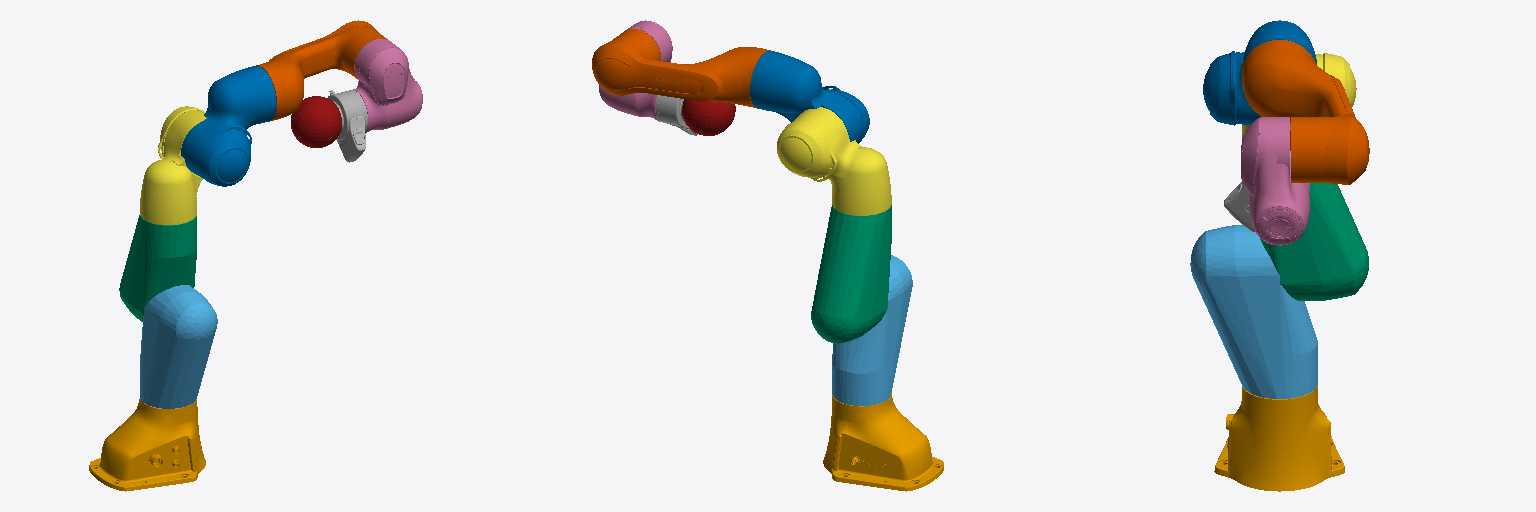
The robot description file, URDF, robot "panda":
<?xml version='1.0' encoding='utf-8'?>
<robot name="panda">

	<link name="link0">
		<inertial>
			<origin xyz="0 0 0.05" rpy="0 0 0" />
			<mass value="4" />
			<inertia ixx="0.4" iyy="0.4" izz="0.4" ixy="0" ixz="0" iyz="0" />
		</inertial>
		<visual>
			<geometry>
				<mesh filename="meshes/visual/link0.stl"/>
			</geometry>
		</visual>
		<!-- <collision>
			<geometry>
				<mesh filename="meshes/collision/link0.stl"/>
			</geometry>
		</collision> -->
	</link>
	<link name="link1">
		<inertial>
			<origin xyz="0 0 -0.07" rpy="0 -0 0" />
			<mass value="3" />
			<inertia ixx="0.3" iyy="0.3" izz="0.3" ixy="0" ixz="0" iyz="0" />
		</inertial>
		<visual>
			<geometry>
				<mesh filename="meshes/visual/link1.stl"/>
			</geometry>
		</visual>
		<!-- <collision>
			<geometry>
				<mesh filename="meshes/collision/link1.stl"/>
			</geometry>
		</collision> -->
	</link>
	<link name="link2">
		<inertial>
			<origin xyz="0 -0.1 0" rpy="0 -0 0" />
			<mass value="3" />
			<inertia ixx="0.3" iyy="0.3" izz="0.3" ixy="0" ixz="0" iyz="0" />
		</inertial>
		<visual>
			<geometry>
				<mesh filename="meshes/visual/link2.stl"/>
			</geometry>
		</visual>
		<!-- <collision>
			<geometry>
				<mesh filename="meshes/collision/link2.stl"/>
			</geometry>
		</collision> -->
	</link>
	<link name="link3">
		<inertial>
			<origin xyz="0.04 0 -0.05" rpy="0 -0 0" />
			<mass value="2" />
			<inertia ixx="0.2" iyy="0.2" izz="0.2" ixy="0" ixz="0" iyz="0" />
		</inertial>
		<visual>
			<geometry>
				<mesh filename="meshes/visual/link3.stl"/>
			</geometry>
		</visual>
		<!-- <collision>
			<geometry>
				<mesh filename="meshes/collision/link3.stl"/>
			</geometry>
		</collision> -->
	</link>
	<link name="link4">
		<inertial>
			<origin xyz="-0.04 0.05 0" rpy="0 -0 0" />
			<mass value="2" />
			<inertia ixx="0.2" iyy="0.2" izz="0.2" ixy="0" ixz="0" iyz="0" />
		</inertial>
		<visual>
			<geometry>
				<mesh filename="meshes/visual/link4.stl"/>
			</geometry>
		</visual>
		<!-- <collision>
			<geometry>
				<mesh filename="meshes/collision/link4.stl"/>
			</geometry>
		</collision> -->
	</link>
	<link name="link5">
		<inertial>
			<origin xyz="0 0 -0.15" rpy="0 -0 0" />
			<mass value="2" />
			<inertia ixx="0.2" iyy="0.2" izz="0.2" ixy="0" ixz="0" iyz="0" />
		</inertial>
		<visual>
			<geometry>
				<mesh filename="meshes/visual/link5.stl"/>
			</geometry>
		</visual>
		<!-- <collision>
			<geometry>
				<mesh filename="meshes/collision/link5.stl"/>
			</geometry>
		</collision> -->
	</link>
	<link name="link6">
		<inertial>
			<origin xyz="0.06 0 0" rpy="0 -0 0" />
			<mass value="1.5" />
			<inertia ixx="0.1" iyy="0.1" izz="0.1" ixy="0" ixz="0" iyz="0" />
		</inertial>
		<visual>
			<geometry>
				<mesh filename="meshes/visual/link6.stl"/>
			</geometry>
		</visual>
		<!-- <collision>
			<geometry>
				<mesh filename="meshes/collision/link6.stl"/>
			</geometry>
		</collision> -->
	</link>
	<link name="link7">
		<inertial>
			<origin xyz="0 0 0.17" rpy="0 -0 0" />
			<mass value="1.8" />
			<inertia ixx="0.09" iyy="0.05" izz="0.07" ixy="0" ixz="0" iyz="0" />
		</inertial>
		<visual>
			<geometry>
				<mesh filename="meshes/visual/link7.stl"/>
			</geometry>
		</visual>
		<!-- <collision>
			<geometry>
				<mesh filename="meshes/collision/link7.stl"/>
			</geometry>
		</collision> -->
	</link>
	<link name="end-effector">
		<inertial>
			<origin xyz="0 0 0" rpy="0 -0 0" />
			<mass value="0.2" />
			<inertia ixx="0.01" iyy="0.01" izz="0.01" ixy="0" ixz="0" iyz="0" />
		</inertial>
		<visual>
			<geometry>
				<sphere radius="0.05"/>
			</geometry>
			<material name="material_red">
				<color rgba="0.6 0.1 0.1 1.0" />
			</material>
		</visual>
		<collision>
			<geometry>
				<sphere radius="0.05"/>
			</geometry>
		</collision>
	</link>

	<joint name="joint1" type="revolute">
		<safety_controller k_position="100.0" k_velocity="40.0" soft_lower_limit="-2.8973" soft_upper_limit="2.8973"/>
		<origin rpy="0 0 0" xyz="0 0 0.333"/>
		<parent link="link0"/>
		<child link="link1"/>
		<axis xyz="0 0 1"/>
		<calibration falling="0.0" />
		<limit effort="87" lower="-2.8973" upper="2.8973" velocity="2.1750"/>
	</joint>
	<joint name="joint2" type="revolute">
		<safety_controller k_position="100.0" k_velocity="40.0" soft_lower_limit="-1.7628" soft_upper_limit="1.7628"/>
		<origin rpy="-1.57079632679 0 0" xyz="0 0 0"/>
		<parent link="link1"/>
		<child link="link2"/>
		<axis xyz="0 0 1"/>
		<calibration falling="-25.0" />
		<limit effort="87" lower="-1.7628" upper="1.7628" velocity="2.1750"/>
	</joint>
	<joint name="joint3" type="revolute">
		<safety_controller k_position="100.0" k_velocity="40.0" soft_lower_limit="-2.8973" soft_upper_limit="2.8973"/>
		<origin rpy="1.57079632679 0 0" xyz="0 -0.316 0"/>
		<parent link="link2"/>
		<child link="link3"/>
		<axis xyz="0 0 1"/>
		<limit effort="87" lower="-2.8973" upper="2.8973" velocity="2.1750"/>
	</joint>
	<joint name="joint4" type="revolute">
		<safety_controller k_position="100.0" k_velocity="40.0" soft_lower_limit="-3.0718" soft_upper_limit="-0.0698"/>
		<origin rpy="1.57079632679 0 0" xyz="0.0825 0 0"/>
		<parent link="link3"/>
		<child link="link4"/>
		<axis xyz="0 0 1"/>
		<calibration falling="-135.0" />
		<limit effort="87" lower="-3.0718" upper="-0.0698" velocity="2.1750"/>
	</joint>
	<joint name="joint5" type="revolute">
		<safety_controller k_position="100.0" k_velocity="40.0" soft_lower_limit="-2.8973" soft_upper_limit="2.8973"/>
		<origin rpy="-1.57079632679 0 0" xyz="-0.0825 0.384 0"/>
		<parent link="link4"/>
		<child link="link5"/>
		<axis xyz="0 0 1"/>
		<calibration falling="0.0" />
		<limit effort="12" lower="-2.8973" upper="2.8973" velocity="2.6100"/>
	</joint>
	<joint name="joint6" type="revolute">
		<safety_controller k_position="100.0" k_velocity="40.0" soft_lower_limit="-0.0175" soft_upper_limit="3.7525"/>
		<origin rpy="1.57079632679 0 0" xyz="0 0 0"/>
		<parent link="link5"/>
		<child link="link6"/>
		<axis xyz="0 0 1"/>
		<calibration falling="105.0" />
		<limit effort="12" lower="-0.0175" upper="3.7525" velocity="2.6100"/>
	</joint>
	<joint name="joint7" type="revolute">
		<safety_controller k_position="100.0" k_velocity="40.0" soft_lower_limit="-2.8973" soft_upper_limit="2.8973"/>
		<origin rpy="1.57079632679 0 0" xyz="0.088 0 0"/>
		<parent link="link6"/>
		<child link="link7"/>
		<axis xyz="0 0 1"/>
		<limit effort="12" lower="-2.8973" upper="2.8973" velocity="2.6100"/>
	</joint>
	<joint name="joint_ee" type="fixed">
		<origin rpy="0 0 0" xyz="0 0 0.14"/>
		<parent link="link7"/>
		<child link="end-effector"/>
	</joint>
</robot>

--- Render facts (derived) ---
3 views of the same robot in one strip: view 1: azimuth 30°, elevation 25°; view 2: azimuth 150°, elevation 25°; view 3: azimuth 270°, elevation 25° (orthographic).
Model panda with 9 links and 8 joints (7 revolute, 1 fixed), rooted at link0, posed joints at zero except 1 at the middle of their limits (joint4 = -1.57).
Visible links, largest first — view 1: link1, link0, link4, link2, link3, link5, link6, end-effector, link7; view 2: link2, link0, link5, link3, link1, link4, link6, end-effector, link7; view 3: link1, link5, link0, link2, link6, link4, link3, link7.
Boxes of the visible links, x1,y1,x2,y2 form: link1: (140, 285, 217, 408); link0: (89, 399, 205, 491); link4: (181, 66, 276, 186); link2: (119, 215, 196, 321); link3: (140, 106, 206, 224); link5: (256, 20, 387, 121); link6: (353, 39, 422, 133); end-effector: (291, 96, 341, 147); link7: (328, 90, 367, 162); link2: (811, 205, 891, 343); link0: (823, 393, 943, 491); link5: (592, 29, 770, 107); link3: (777, 107, 891, 215); link1: (832, 255, 912, 405); link4: (750, 51, 869, 143); link6: (599, 20, 672, 121); end-effector: (682, 99, 735, 135); link7: (655, 95, 697, 135); link1: (1190, 225, 1317, 398); link5: (1242, 40, 1369, 184); link0: (1214, 385, 1344, 491); link2: (1260, 183, 1368, 300); link6: (1241, 117, 1309, 245); link4: (1203, 20, 1316, 125); link3: (1242, 53, 1356, 137); link7: (1224, 151, 1309, 231).
Bounding box of the posed robot: 0.7022 × 0.2593 × 0.7865 m (x, y, z).
8 mesh visuals loaded from 8 distinct referenced files (8 binary STL).
